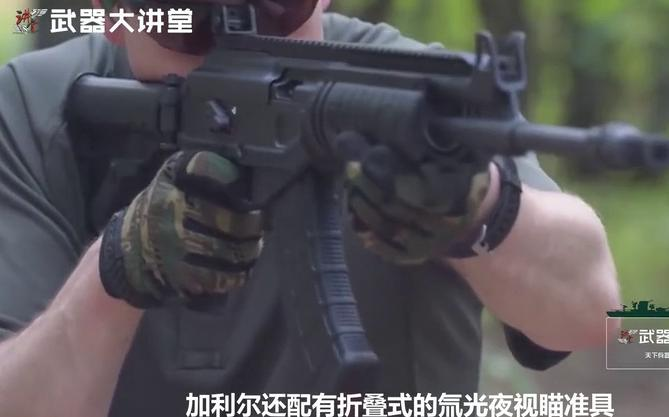gun: (1, 1, 669, 417)
